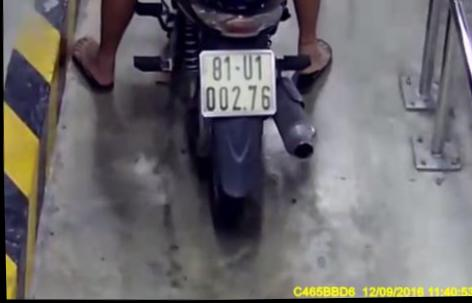LP: (196, 47, 279, 120)
